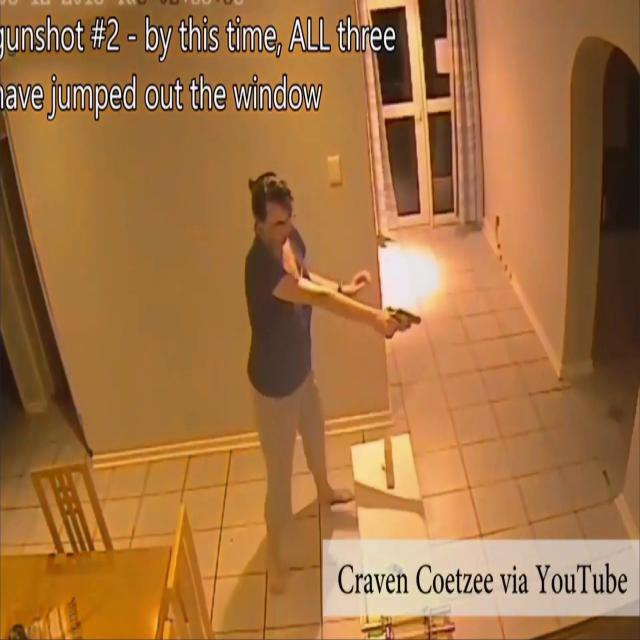weapon: (386, 306, 422, 341)
